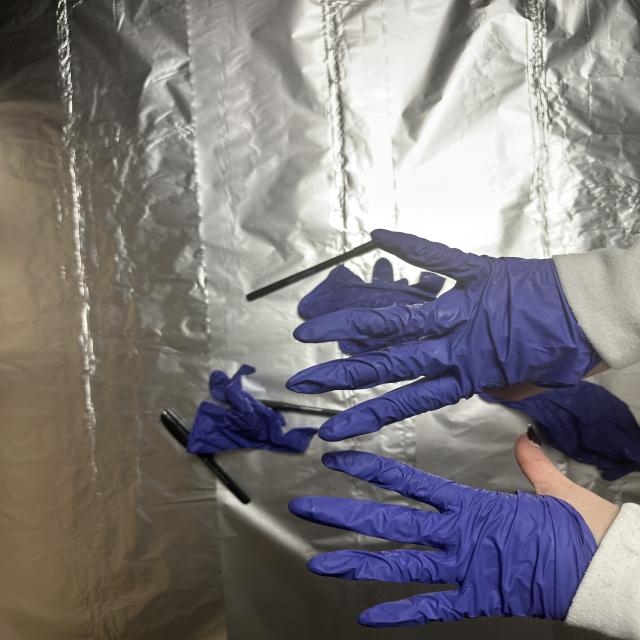glove_partial: (284, 426, 626, 633), (278, 223, 590, 441)
